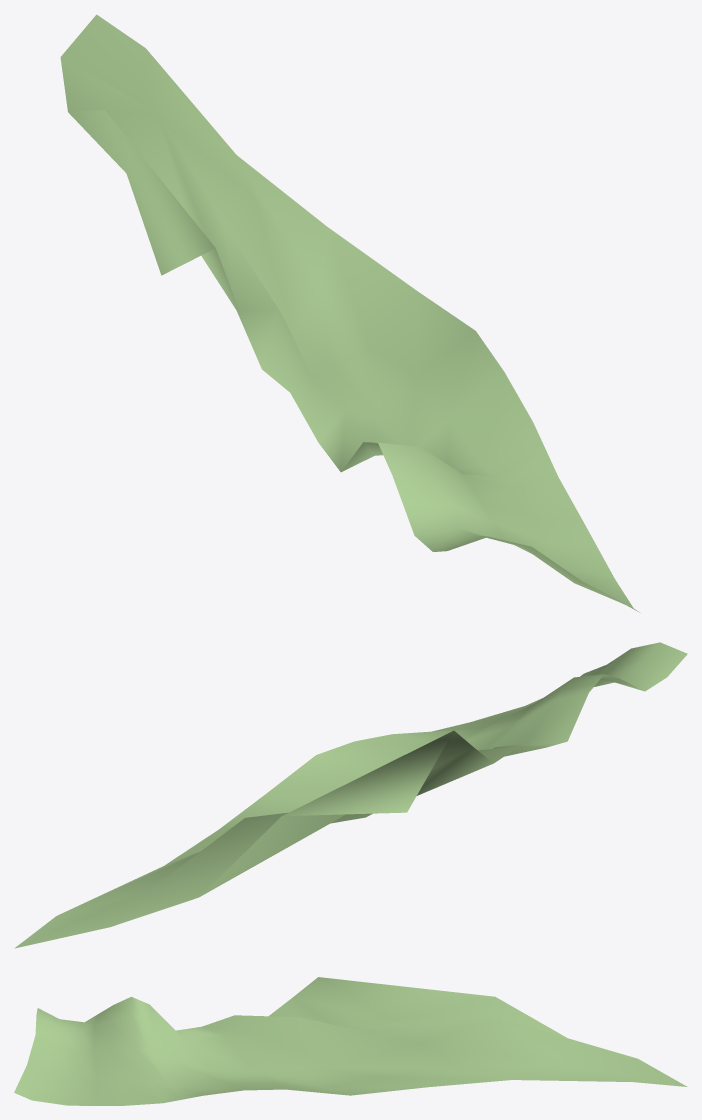
File: level_93.fbx
The picture shows the model from 3 angles, top to bottom: view 1: azimuth 30°, elevation 25°; view 2: azimuth 150°, elevation 25°; view 3: azimuth 270°, elevation 25°; orthographic projection. The views are drawn at different scales.
Visible parts, largest first — view 1: loc_093; view 2: loc_093; view 3: loc_093.
Boxes of the visible parts, x1,y1,x2,y2 form: loc_093: (60, 14, 639, 612); loc_093: (14, 642, 687, 948); loc_093: (14, 977, 687, 1105).
Size of the model in its own units: 30.27 by 17.83 by 118.
